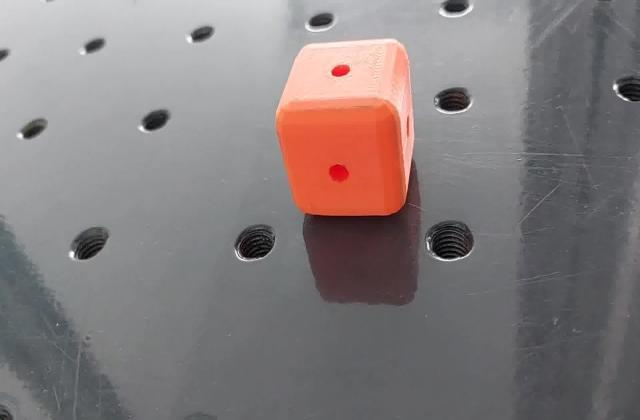cube: (270, 35, 423, 224)
